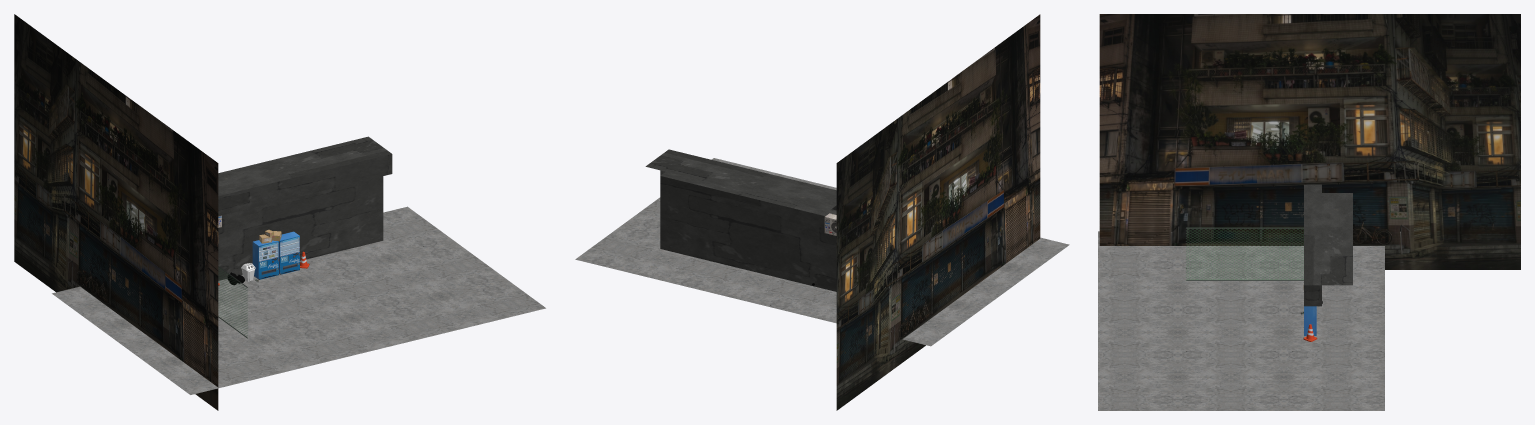
File: jihanki.glb
3 views of the same model, side by side, from view 1: azimuth 30°, elevation 25°; view 2: azimuth 150°, elevation 25°; view 3: azimuth 270°, elevation 25° (orthographic). The views are drawn at different scales.
Visible parts, largest first — view 1: tatemono, 平面.002, 平面.004, jihank_hontai, fence, jihanki_hontai2; view 2: tatemono, 平面.004, 平面.002; view 3: tatemono, 平面.002, 平面.004, fence.
Boxes of the visible parts, x1,y1,x2,y2 form: tatemono: [14, 14, 218, 410]; 平面.002: [52, 206, 545, 394]; 平面.004: [218, 136, 392, 280]; jihank_hontai: [252, 240, 278, 279]; fence: [218, 266, 247, 338]; jihanki_hontai2: [279, 231, 299, 274]; tatemono: [836, 14, 1040, 410]; 平面.004: [645, 149, 836, 291]; 平面.002: [575, 158, 1069, 346]; tatemono: [1099, 14, 1520, 269]; 平面.002: [1098, 231, 1384, 410]; 平面.004: [1304, 184, 1352, 306]; fence: [1186, 227, 1303, 280].
Size of the model in its own units: 51.61 by 34.33 by 51.39.
28 materials, 20 textured.
